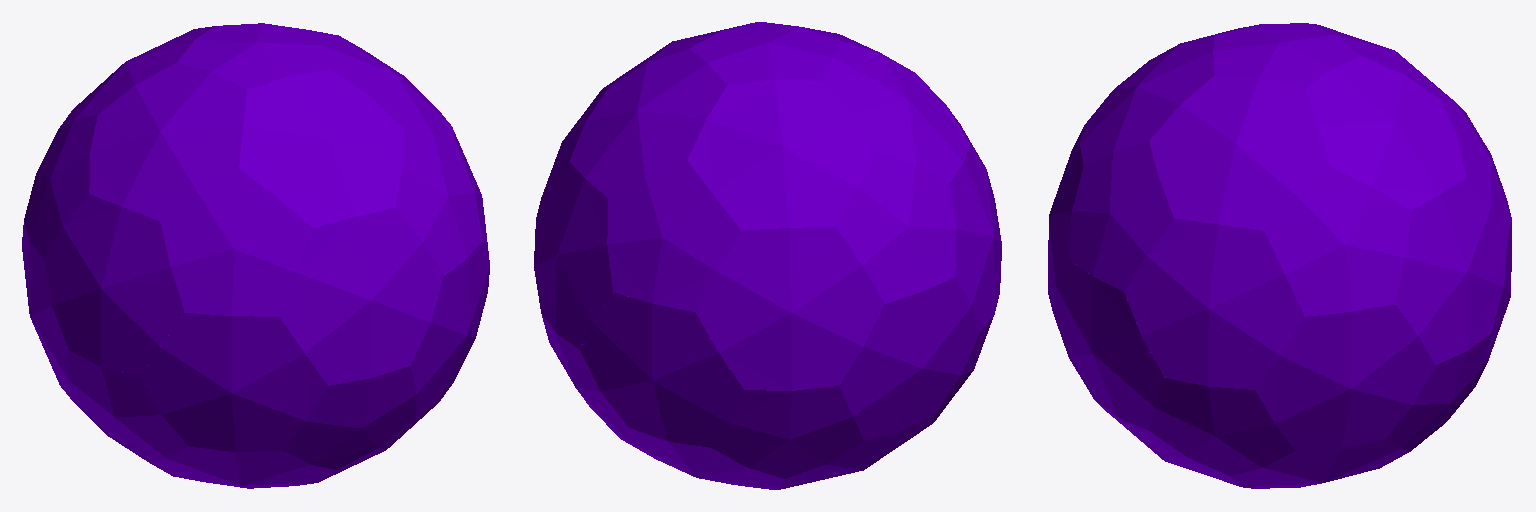
File: purple_ball.obj
The picture shows the model from 3 angles: view 1: azimuth 30°, elevation 25°; view 2: azimuth 150°, elevation 25°; view 3: azimuth 270°, elevation 25°; orthographic projection.
Parts seen in each view (by area): view 1: body; view 2: body; view 3: body.
Boxes of the visible parts, <box> form: body: <box>22,23,489,488</box>; body: <box>534,22,1001,489</box>; body: <box>1048,23,1511,488</box>.
Size of the model in its own units: 4.8 by 4.8 by 4.72.